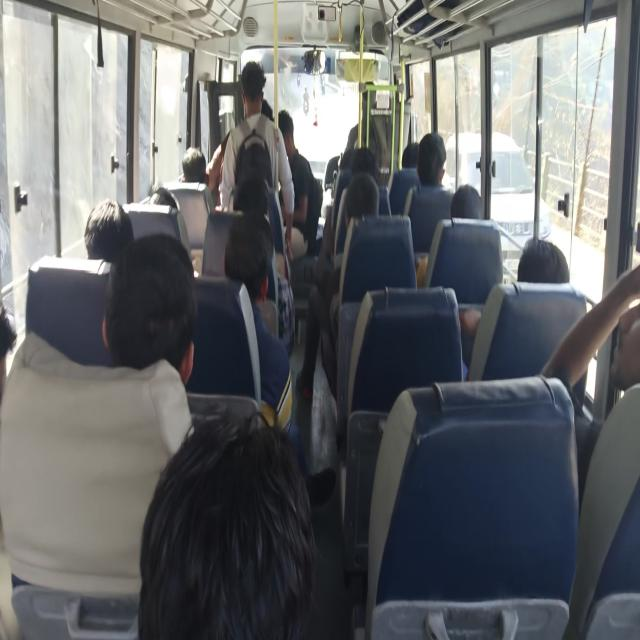person: (157, 416, 315, 640), (116, 253, 202, 392), (597, 282, 640, 457), (284, 132, 317, 276), (516, 247, 576, 324), (239, 59, 282, 125), (347, 180, 396, 232), (89, 207, 134, 263), (0, 270, 17, 418), (146, 186, 187, 240), (424, 133, 454, 204), (448, 186, 483, 234), (356, 140, 384, 176), (184, 149, 207, 190), (405, 146, 428, 185)
